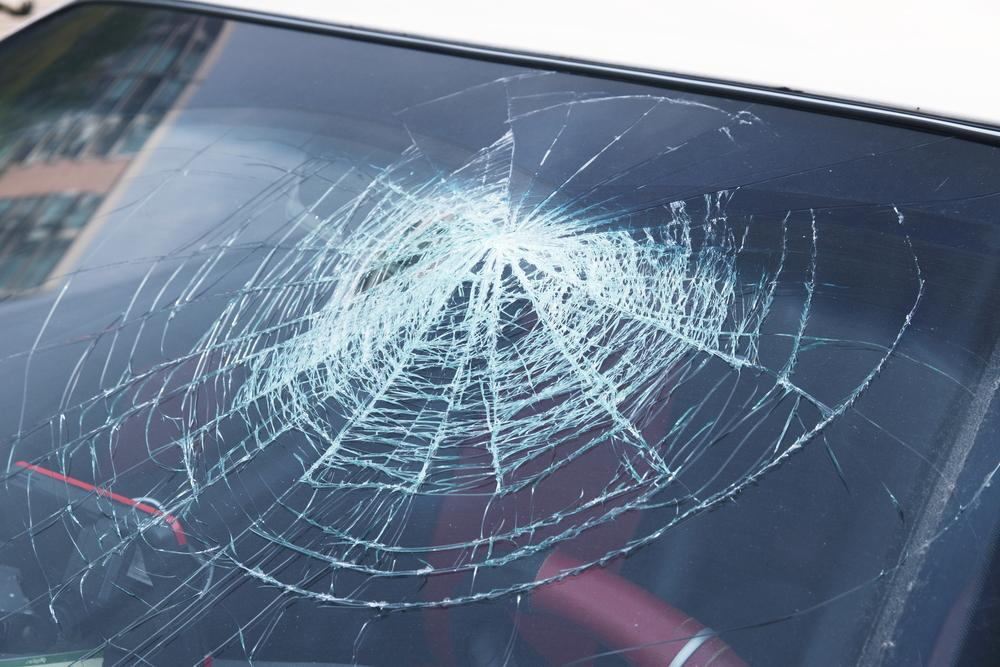glass shatter: (0, 1, 1000, 667)
